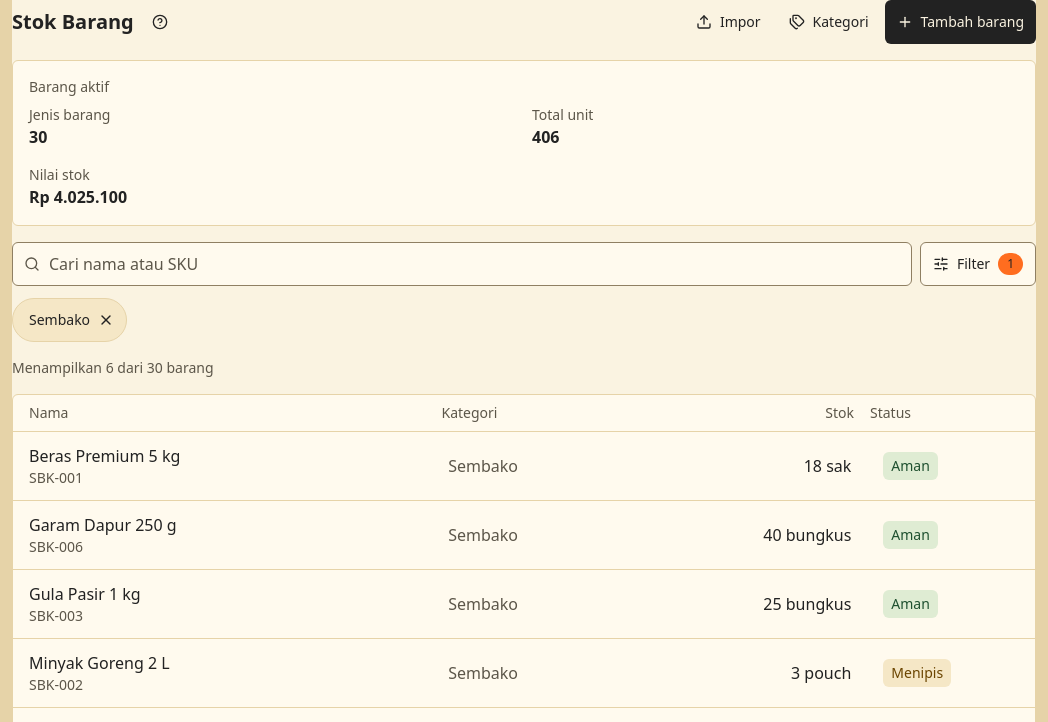
Test: filter daftar stok › HP: chip kategori menghapus filter terkait dan mengubah daftar
Expected: the text "Menampilkan 6 dari 30 barang" is shown, [12, 358, 214, 377]
Expected: the button "Filter 1" is shown, [920, 242, 1036, 286]
Click the button with aria-label "Hapus filter Kategori: Sembako".
click(70, 320)  # box [12, 298, 127, 342]
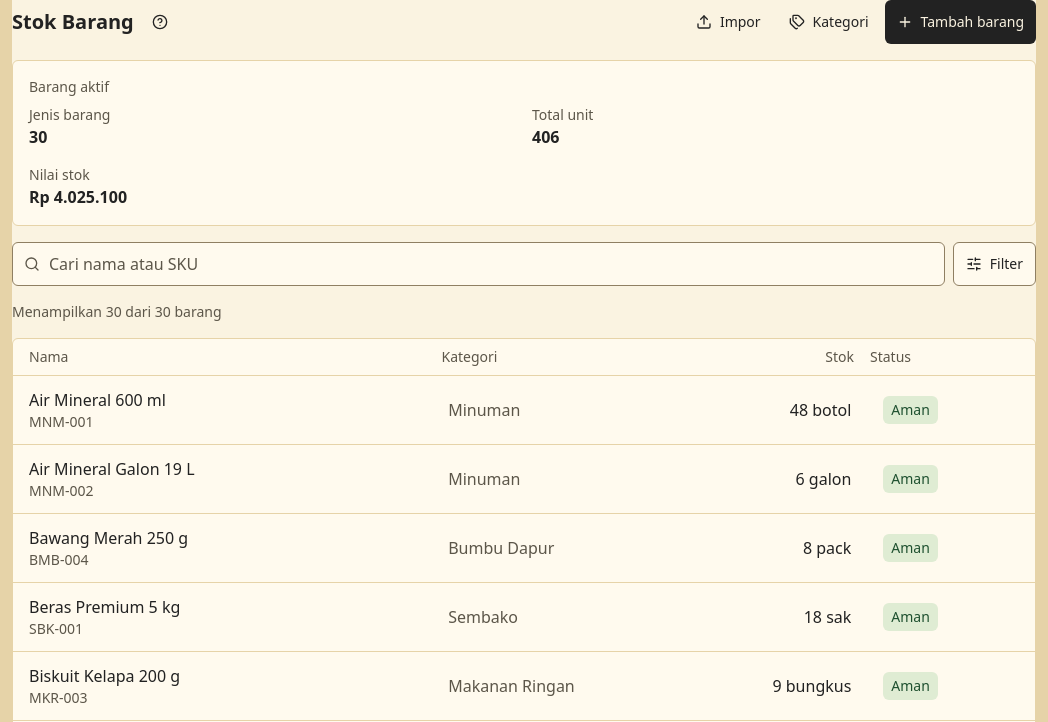
Expected: the text "Menampilkan 30 dari 30 barang" is shown, [12, 302, 222, 321]
